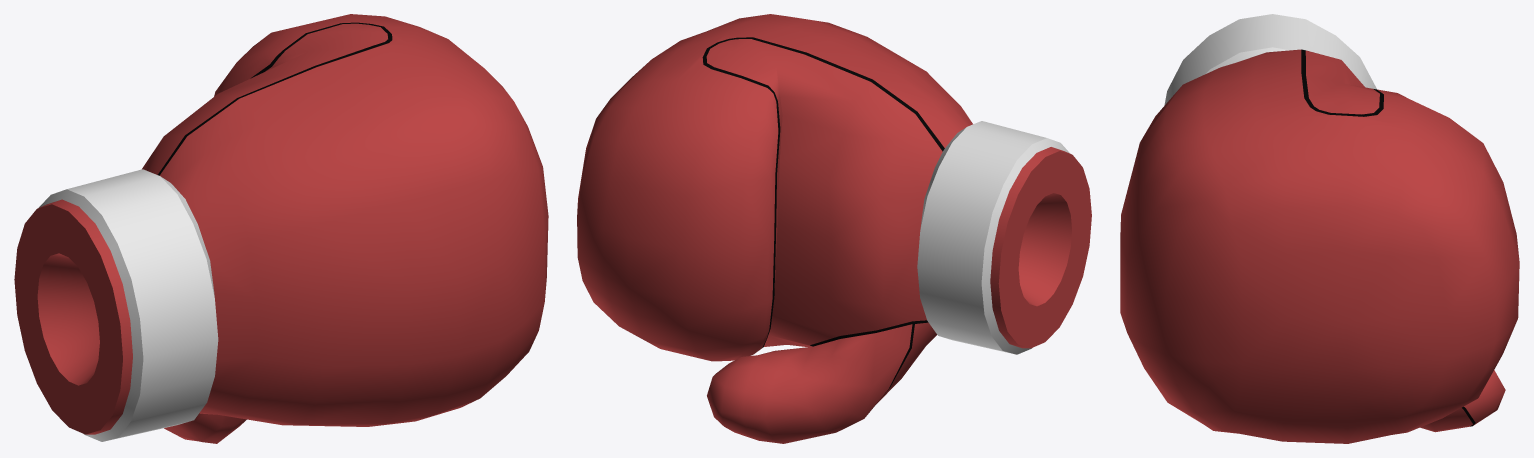
Rendered from BoxingGloves_L.fbx.
3 views of the same model, side by side, from view 1: azimuth 30°, elevation 25°; view 2: azimuth 150°, elevation 25°; view 3: azimuth 270°, elevation 25° (orthographic). The views are drawn at different scales.
Visible parts, largest first — view 1: SM_WEP_BoxingGloves_L.001; view 2: SM_WEP_BoxingGloves_L.001; view 3: SM_WEP_BoxingGloves_L.001.
Boxes of the visible parts, bbox=[...] form: SM_WEP_BoxingGloves_L.001: bbox=[14, 14, 548, 443]; SM_WEP_BoxingGloves_L.001: bbox=[577, 14, 1091, 443]; SM_WEP_BoxingGloves_L.001: bbox=[1120, 14, 1519, 443].
Size of the model in its own units: 2770 by 2220 by 2161.
